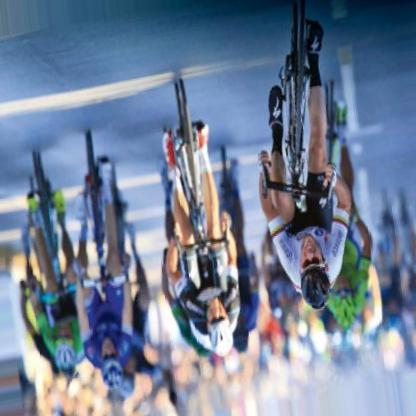with helmet: (299, 234, 329, 311), (205, 300, 235, 356), (100, 337, 124, 390), (55, 324, 77, 370)
